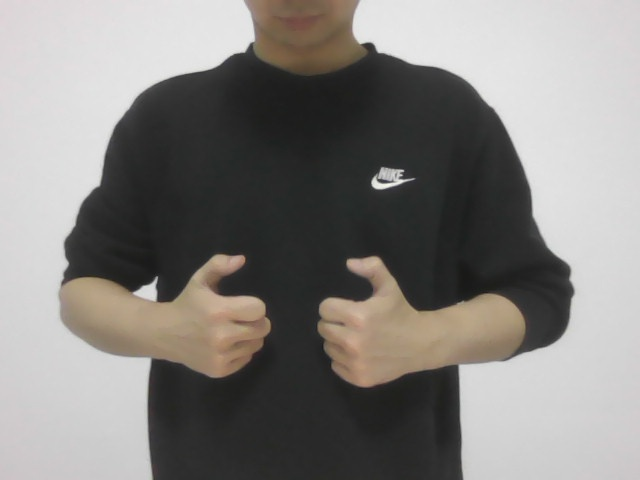marry/wife: (160, 238, 423, 402)
